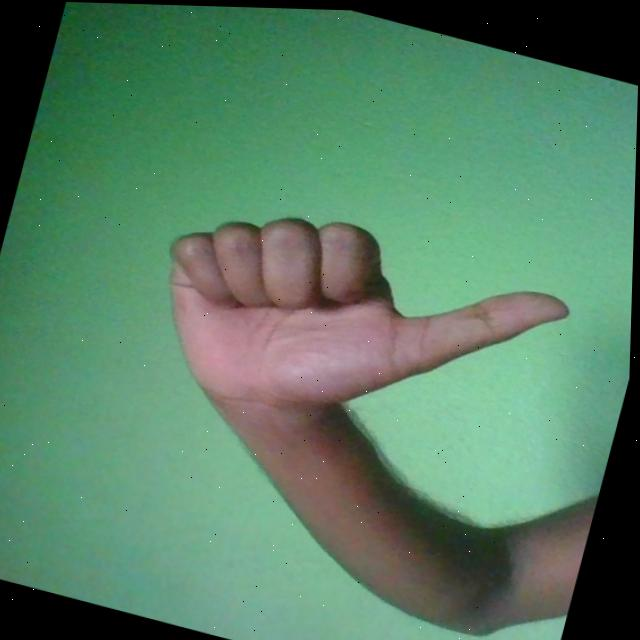Dislike: (137, 178, 582, 472)
